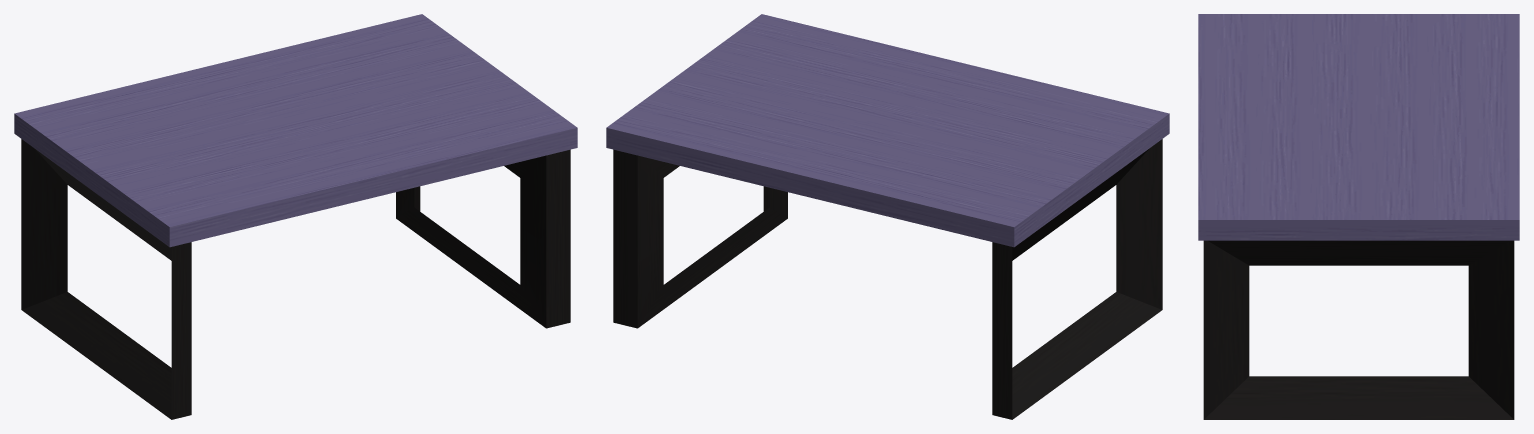
File: Desk_D.FBX
3 views of the same model, side by side, from view 1: azimuth 30°, elevation 25°; view 2: azimuth 150°, elevation 25°; view 3: azimuth 270°, elevation 25° (orthographic). The views are drawn at different scales.
Visible parts, largest first — view 1: Desk; view 2: Desk; view 3: Desk.
Boxes of the visible parts, <box> form: Desk: <box>14,14,577,419</box>; Desk: <box>606,14,1169,419</box>; Desk: <box>1198,14,1519,419</box>.
Bounding box in the file's own units: 215 × 98.47 × 142.
